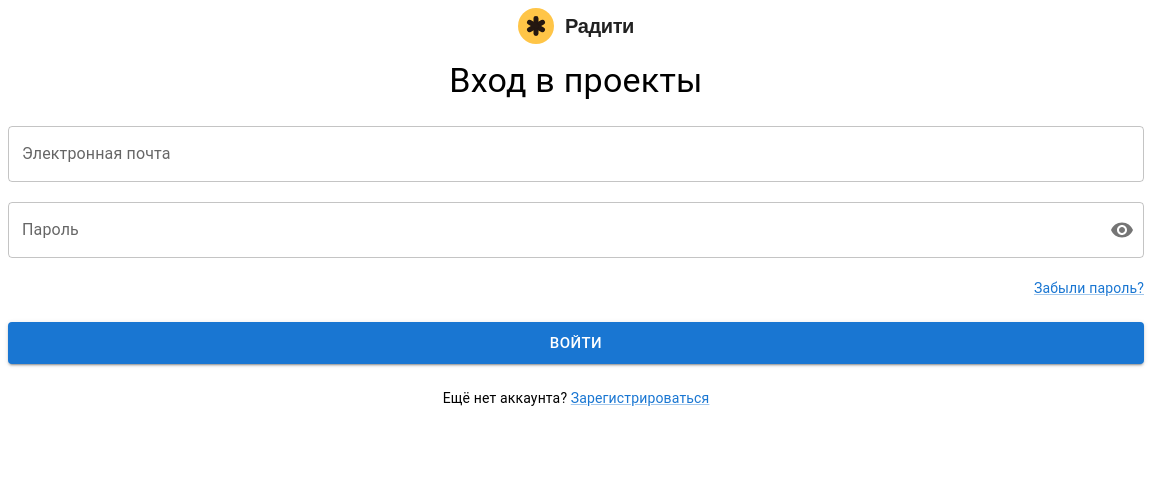
Test: LoginForm › shows the error returned by the server
The width and height of the screenshot is (1152, 495).
Type "anna@example.ru" into the field labelled "Электронная почта" at (576, 154), box [8, 126, 1144, 182]
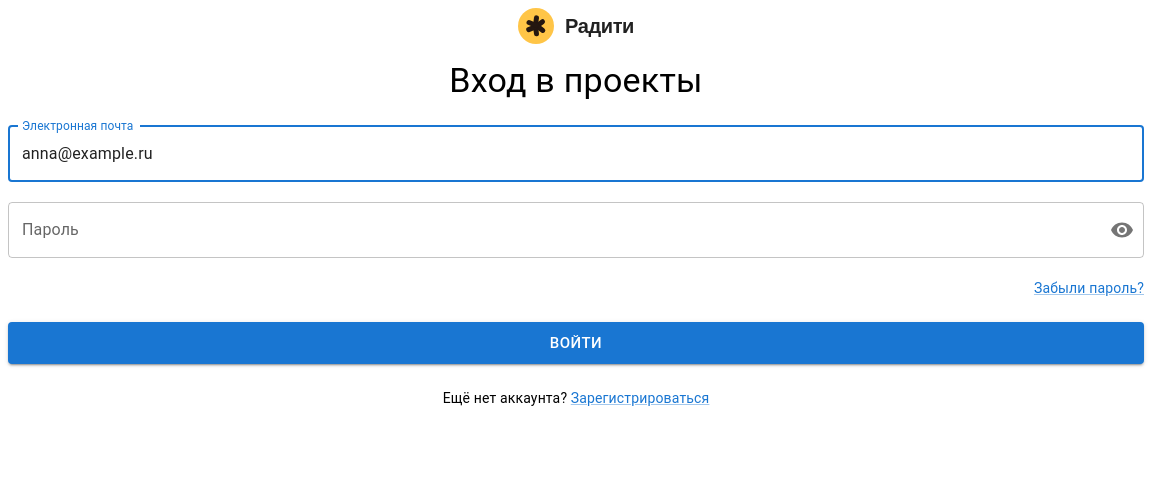
Type "secret-pass" into the password field labelled "Пароль" at (551, 230), box [8, 202, 1094, 258]
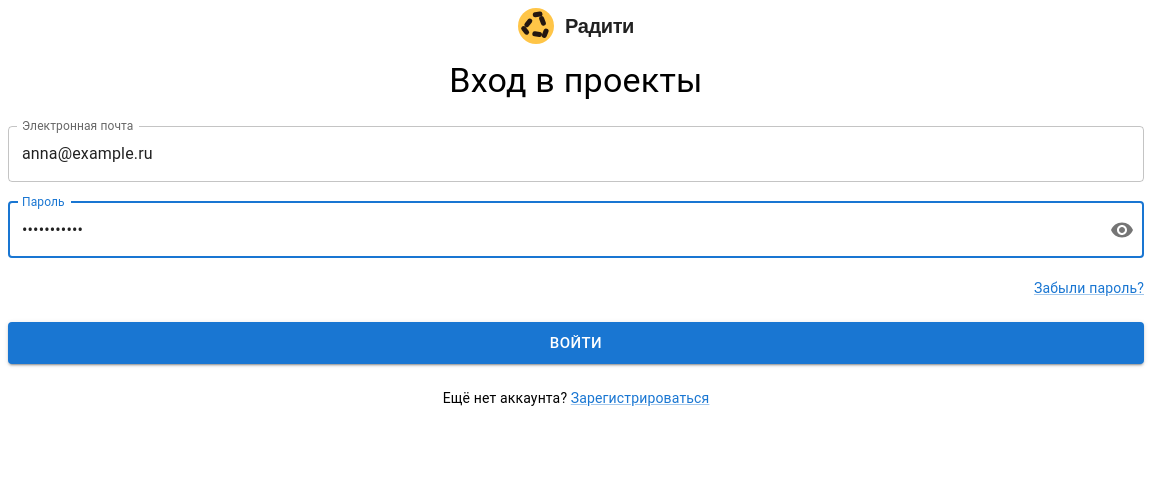
Click the button "Войти" at (576, 343), box [8, 322, 1144, 364]
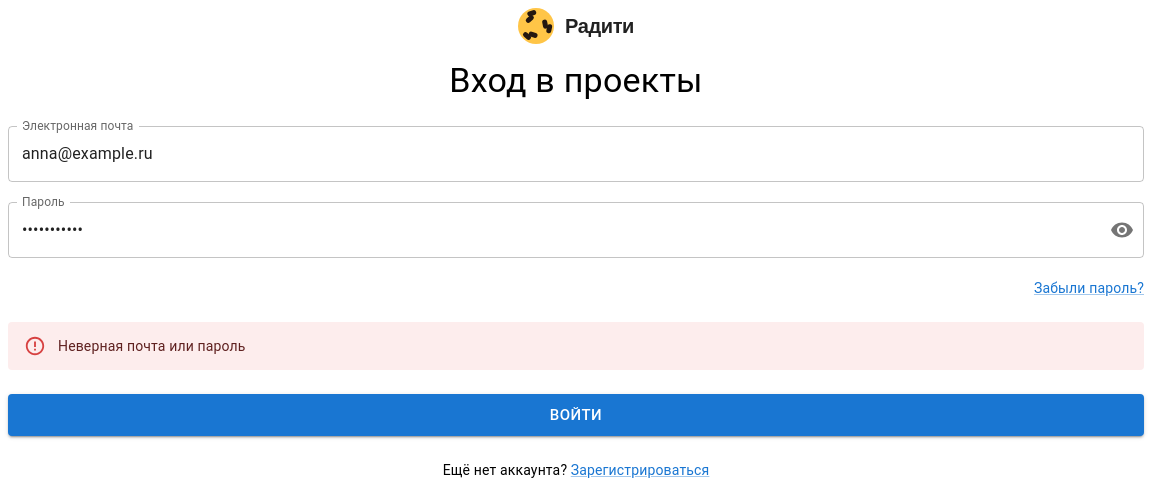
Check: the message reads "Неверная почта или пароль", box [58, 338, 246, 354]
